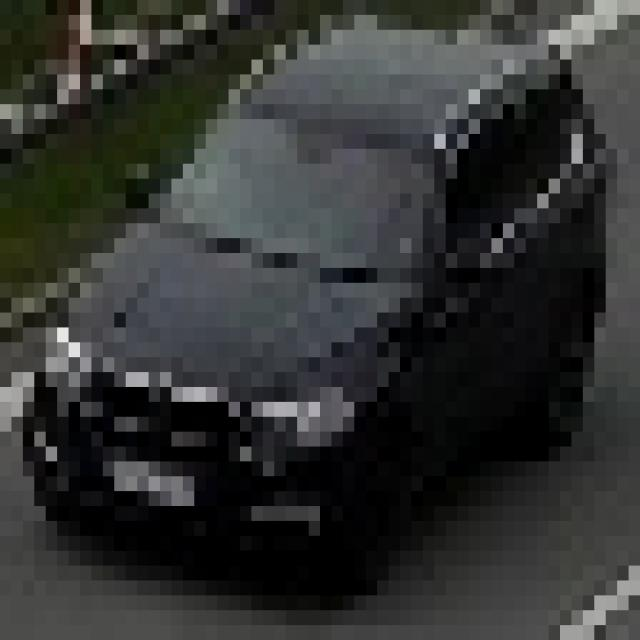SUV: (58, 37, 580, 545)
